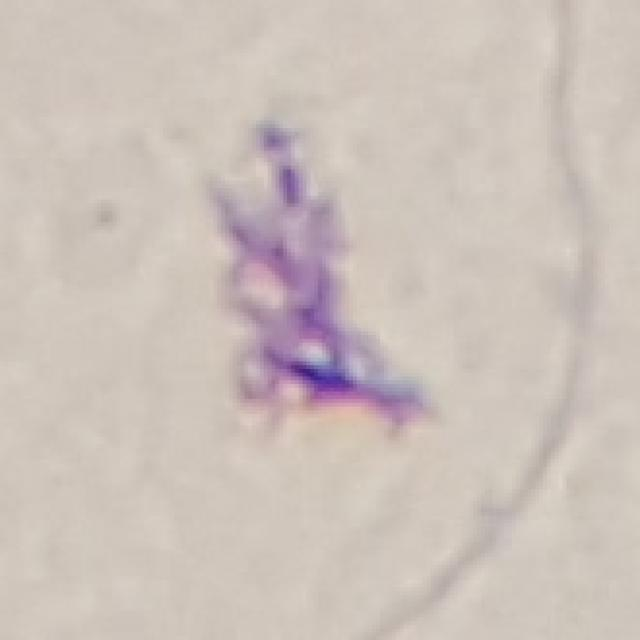non-sperm: (222, 120, 426, 436)
